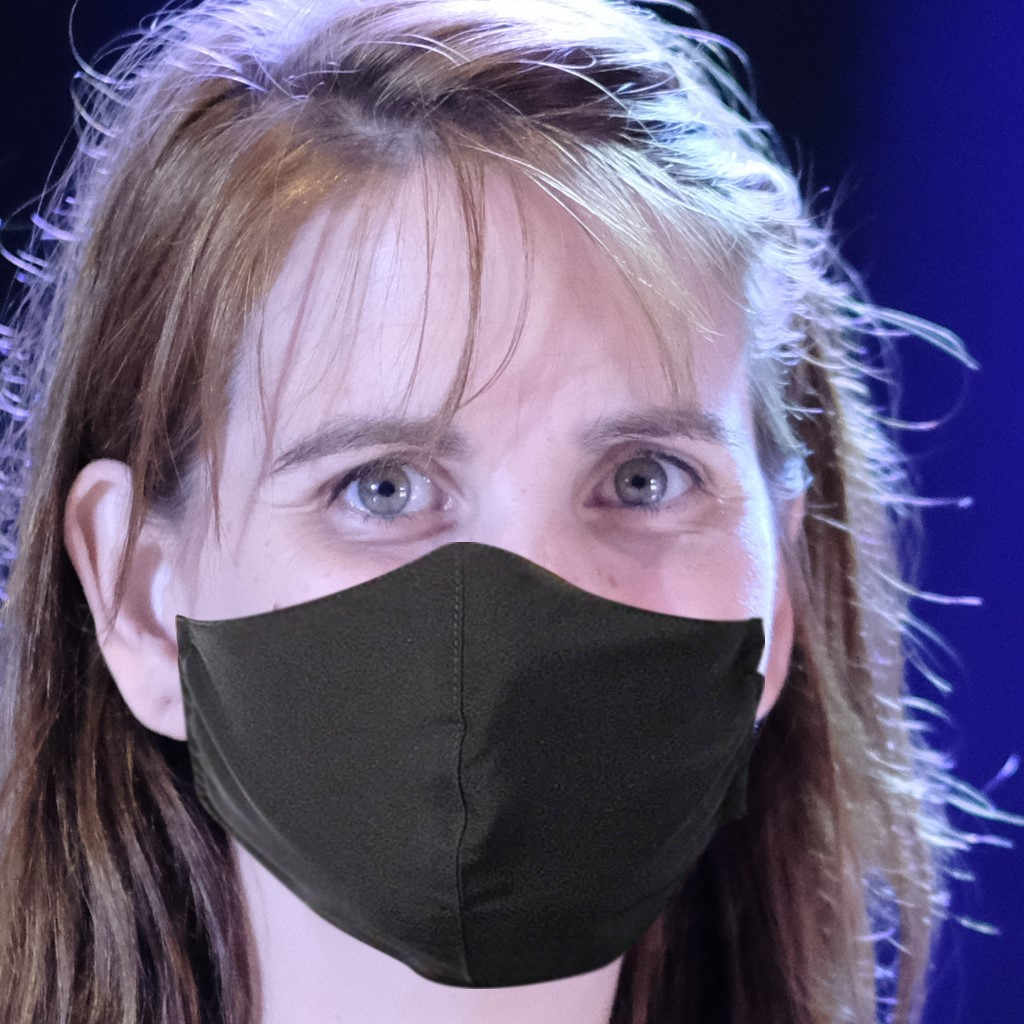con_mascara: (171, 170, 786, 958)
